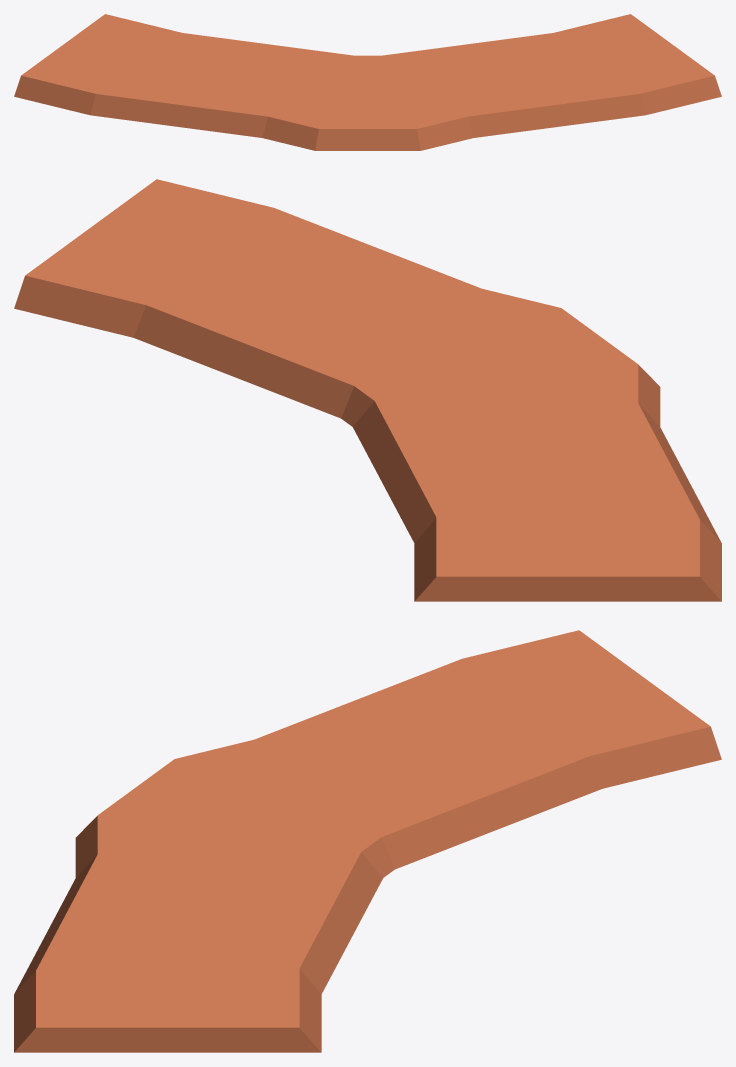
Rendered from path_corner.dae.
3 views of the same model, one above another, from view 1: azimuth 30°, elevation 25°; view 2: azimuth 150°, elevation 25°; view 3: azimuth 270°, elevation 25° (orthographic). The views are drawn at different scales.
Visible parts, largest first — view 1: path_corner; view 2: path_corner; view 3: path_corner.
Part boxes in pixels (left/top/right/bottom): path_corner: left=14, top=14, right=721, bottom=150; path_corner: left=14, top=179, right=721, bottom=601; path_corner: left=14, top=630, right=721, bottom=1052.
Size of the model in its own units: 0.8708 by 0.025 by 0.6423.
